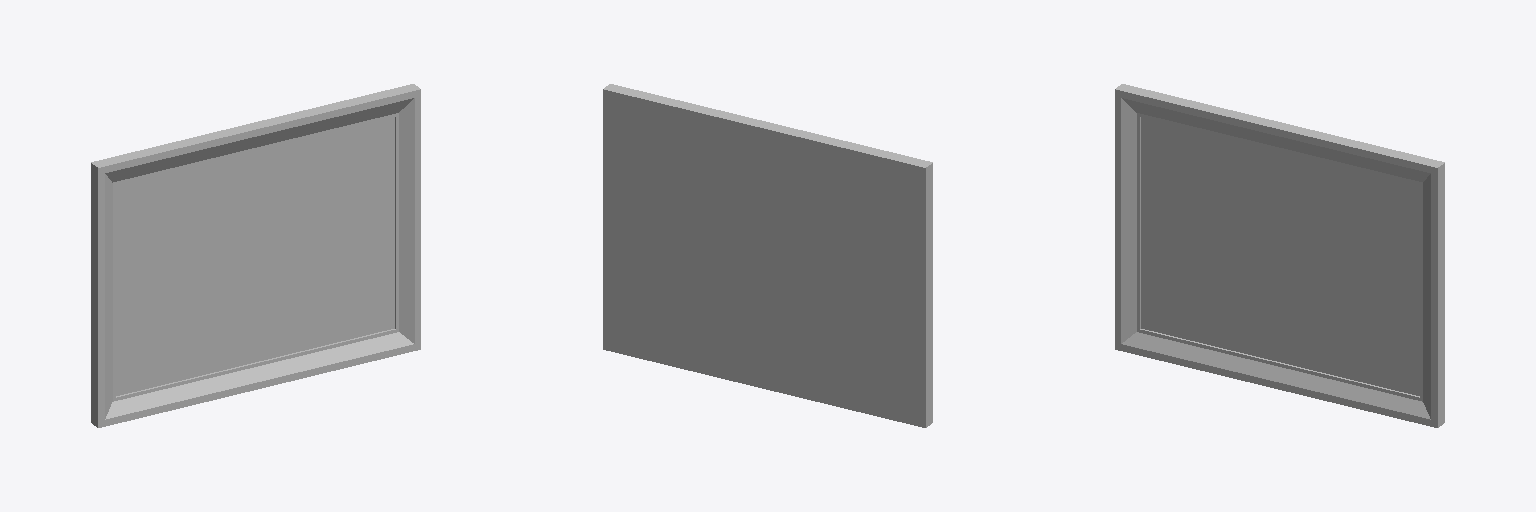
The model's file is Picture.obj.
3 renders of one model, left to right at view 1: azimuth 30°, elevation 25°; view 2: azimuth 150°, elevation 25°; view 3: azimuth 330°, elevation 25°, orthographic.
Parts seen in each view (by area): view 1: 3d-model; view 2: 3d-model; view 3: 3d-model.
Boxes of the visible parts, box(x1,y1,x2,y2) form: 3d-model: box(91, 84, 420, 427); 3d-model: box(603, 84, 932, 427); 3d-model: box(1115, 84, 1444, 427).
Size of the model in its own units: 3.68 by 2.83 by 0.1515.